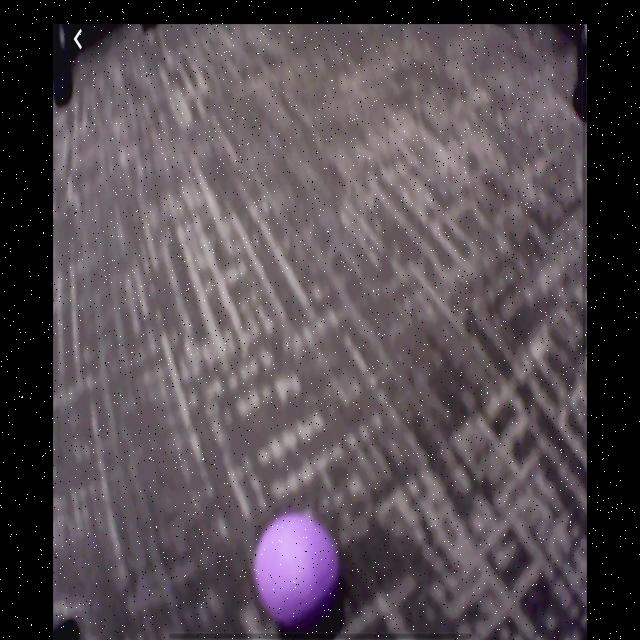ball: (252, 511, 344, 633)
